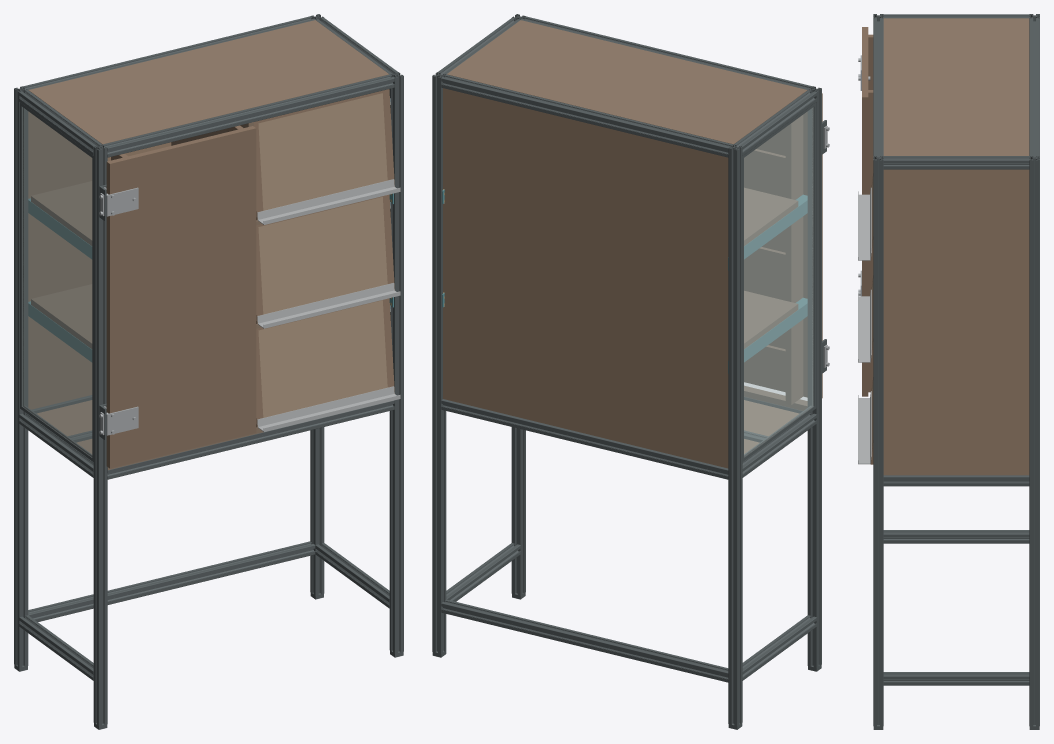
Rendered from cabinet-closed.glb.
The picture shows the model from 3 angles, left to right: view 1: azimuth 30°, elevation 25°; view 2: azimuth 150°, elevation 25°; view 3: azimuth 270°, elevation 25°; orthographic projection.
Visible parts, largest first — view 1: Door-face-18, Left-glass-6, Top-18, Back-infill-8, Plywood-infill-6-3, Plywood-infill-6-1, Plywood-infill-6-2, Post-4-23, Post-966-23, Post-4-470, Beam-top-front, Beam-lower-rear (+24 smaller); view 2: Back-infill-8, Top-18, Left-glass-6, Post-4-470, Post-966-470, Post-4-23, Door-face-18, Door-inner-hinge-18, Beam-top-rear, Beam-lower-rear, Beam-body-rear, Post-966-23 (+15 smaller); view 3: Right-infill-8, Top-18, Post-966-470, Post-966-23, Beam-lower-side-4, Beam-lower-side-966, Beam-top-side-966, Beam-body-side-966, Door-face-18, Beam-top-rear, Beam-top-front, Display-ledge-1 (+5 smaller).
Part boxes in pixels (x1,y1,x2,y2): Door-face-18: (106,126,256,468); Left-glass-6: (22,107,92,456); Top-18: (28,20,389,144); Back-infill-8: (28,111,171,409); Plywood-infill-6-3: (258,93,387,210); Plywood-infill-6-1: (258,300,387,417); Plywood-infill-6-2: (258,197,387,314); Post-4-23: (93,144,107,726); Post-966-23: (389,72,403,653); Post-4-470: (14,86,28,667); Beam-top-front: (103,74,394,157); Beam-lower-rear: (28,541,315,621); Back-infill-8: (443,88,728,468); Top-18: (447,20,807,144); Left-glass-6: (744,107,813,456); Post-4-470: (728,144,742,726); Post-966-470: (432,72,446,653); Post-4-23: (807,86,821,667); Door-face-18: (744,93,822,398); Door-inner-hinge-18: (785,115,803,404); Beam-top-rear: (441,74,732,157); Beam-lower-rear: (441,599,728,682); Beam-body-rear: (441,399,728,479); Post-966-23: (511,14,525,595); Right-infill-8: (883,169,1029,475); Top-18: (883,18,1029,155); Post-966-470: (1029,156,1039,726); Post-966-23: (873,156,883,726); Beam-lower-side-4: (883,530,1029,543); Beam-lower-side-966: (883,672,1029,685); Beam-top-side-966: (883,156,1029,169); Beam-body-side-966: (883,475,1029,486); Door-face-18: (862,27,868,396); Beam-top-rear: (1029,18,1039,157); Beam-top-front: (873,18,883,157); Display-ledge-1: (858,391,871,464).
Bounding box in the file's own units: 1 × 1.8 × 0.5205.
